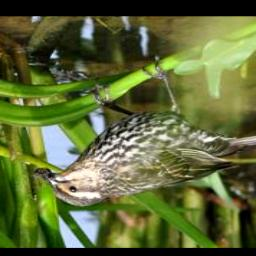Sparrow: (37, 59, 256, 207)
